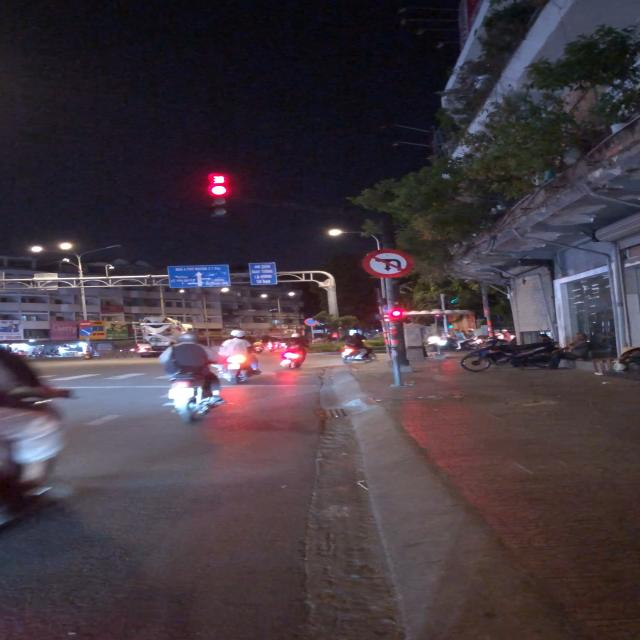Bien bao cam di nguoc chieu: (77, 319, 95, 328)
Bien bao cam re trai va quay dau: (362, 248, 415, 279)
Bien bao huong phai di vong chuong ngai vat: (78, 327, 96, 337)
